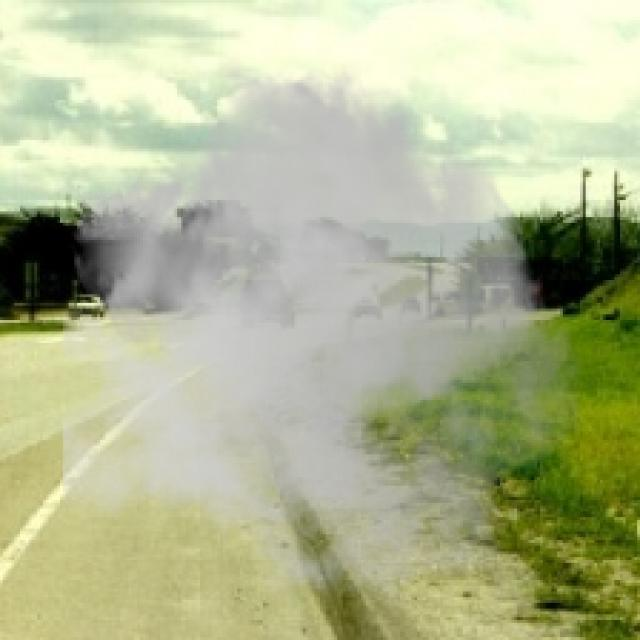Smoke: (63, 55, 583, 614)
